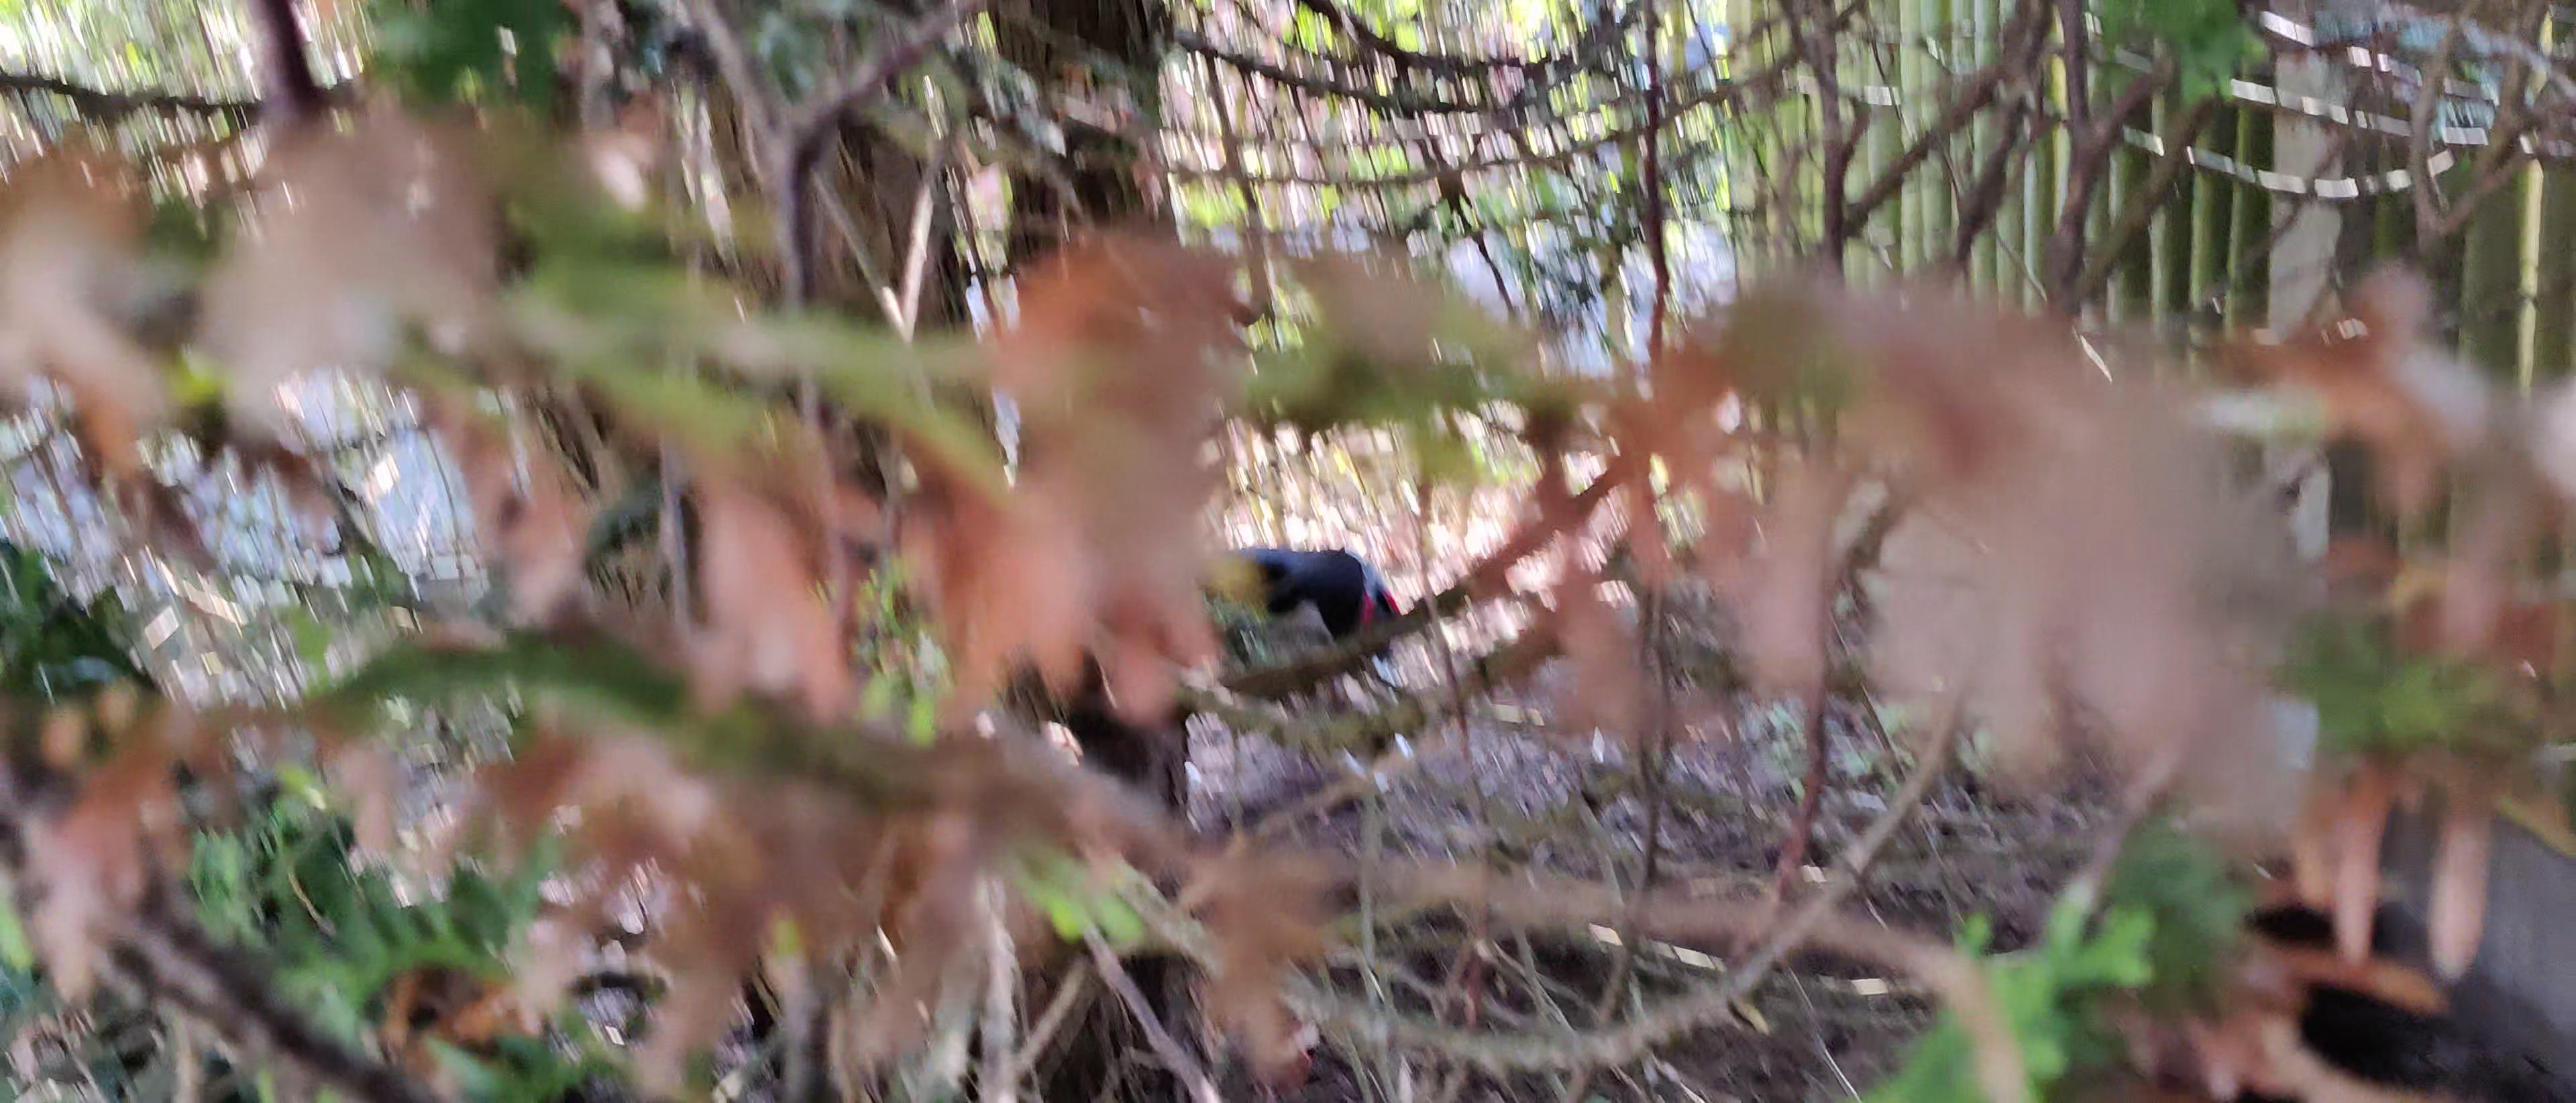Dog: (1189, 529, 1426, 792)
